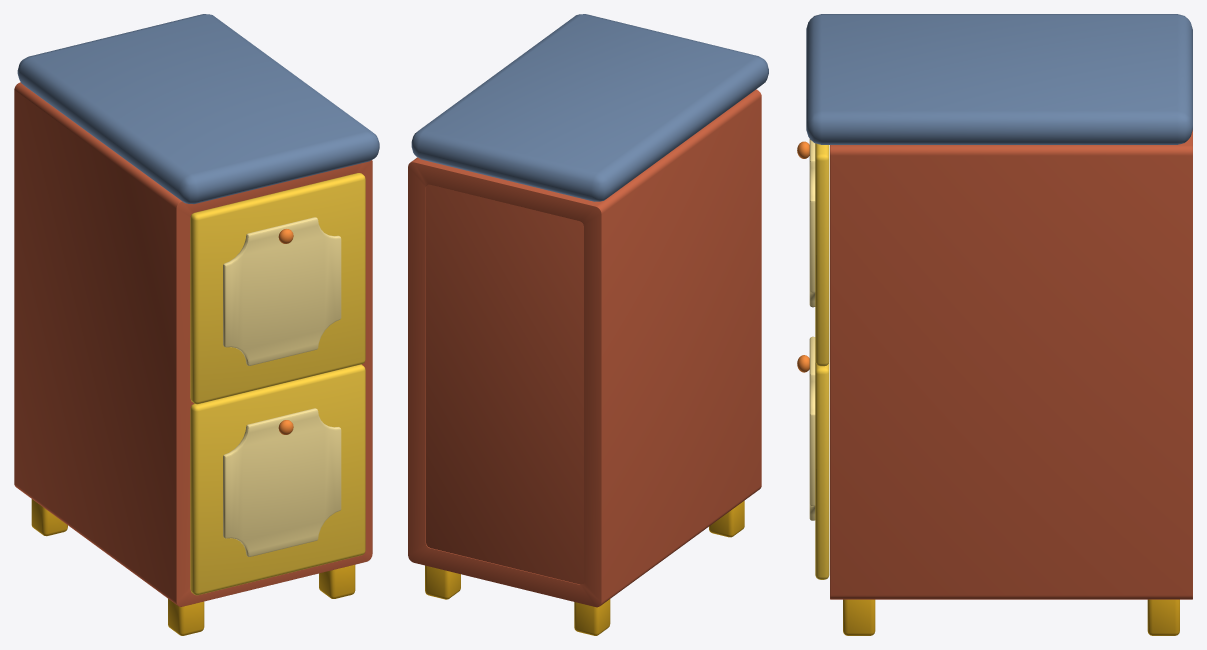
The model's file is gaveteiro_cozinha_2gavetas_classica.glb.
3 renders of one model, left to right at view 1: azimuth 30°, elevation 25°; view 2: azimuth 150°, elevation 25°; view 3: azimuth 270°, elevation 25°, orthographic. The views are drawn at different scales.
Parts seen in each view (by area): view 1: gaveteiro_cozinha_2gavetas_classica, gaveta_1, gaveta_2; view 2: gaveteiro_cozinha_2gavetas_classica; view 3: gaveteiro_cozinha_2gavetas_classica, gaveta_2, gaveta_1.
Part boxes in pixels (left/top/right/bottom): gaveteiro_cozinha_2gavetas_classica: left=14, top=14, right=379, bottom=635; gaveta_1: left=190, top=173, right=365, bottom=404; gaveta_2: left=190, top=364, right=365, bottom=595; gaveteiro_cozinha_2gavetas_classica: left=408, top=14, right=768, bottom=635; gaveteiro_cozinha_2gavetas_classica: left=806, top=14, right=1192, bottom=635; gaveta_2: left=797, top=336, right=829, bottom=579; gaveta_1: left=797, top=139, right=829, bottom=366.
Bounding box in the file's own units: 0.398 × 0.9 × 0.6131.
Materials: 1 (1 with a texture image).
